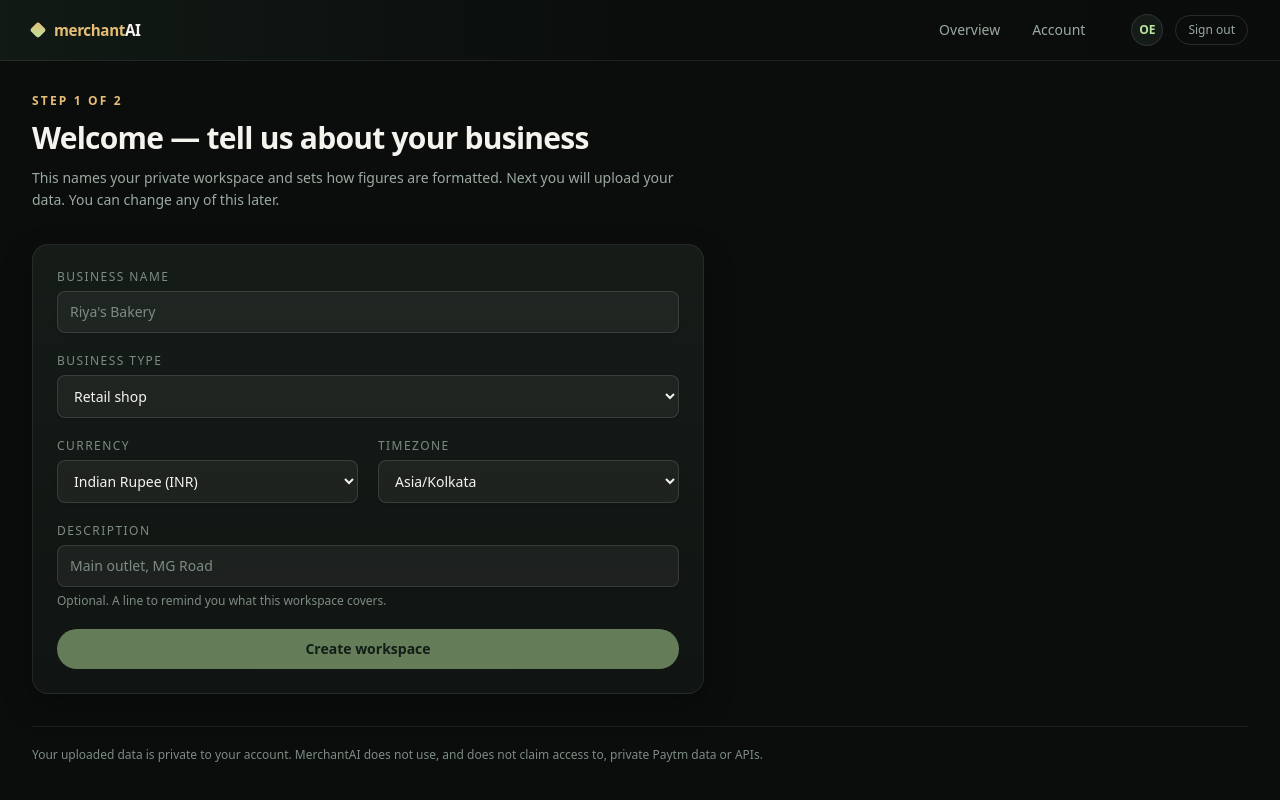
Test: onboarding › requires a business name before it will submit
Check: the button "Create workspace" is disabled, box [57,629,679,669]
Type "Riya Bakery" into the field labelled "Business name".
click(368, 312); type("Riya Bakery")  # box [57,291,679,333]
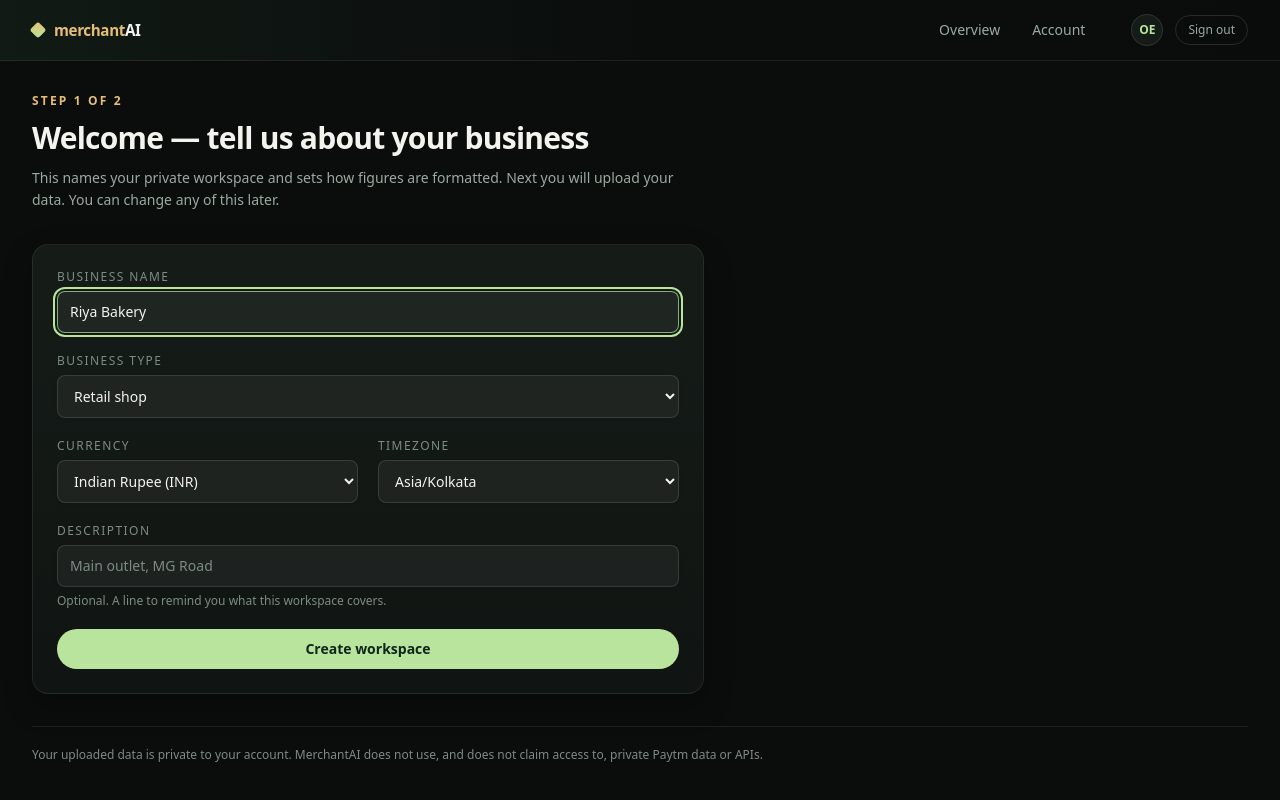
Check: the button "Create workspace" is enabled, box [57,629,679,669]
